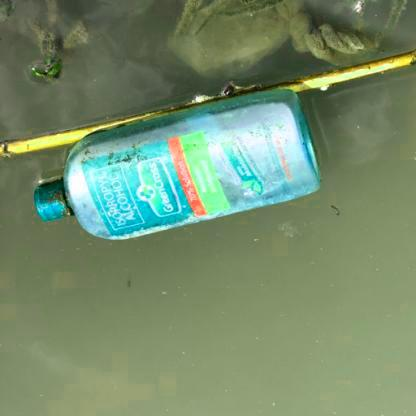Glass: (32, 89, 328, 245)
